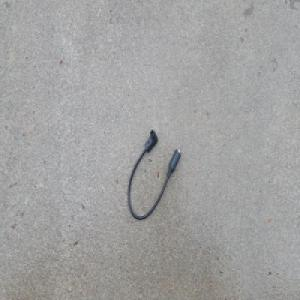Wire: (127, 127, 182, 221)
